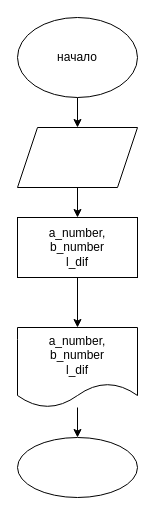
This 155x515 diagram has some shape labels left out. The shapes that lost their labels are listed below. From the top down, each one's box as (x1, y1, x2, y2) in pixels, then its label:
(16, 126, 138, 188): a,b
(16, 436, 138, 498): конец
